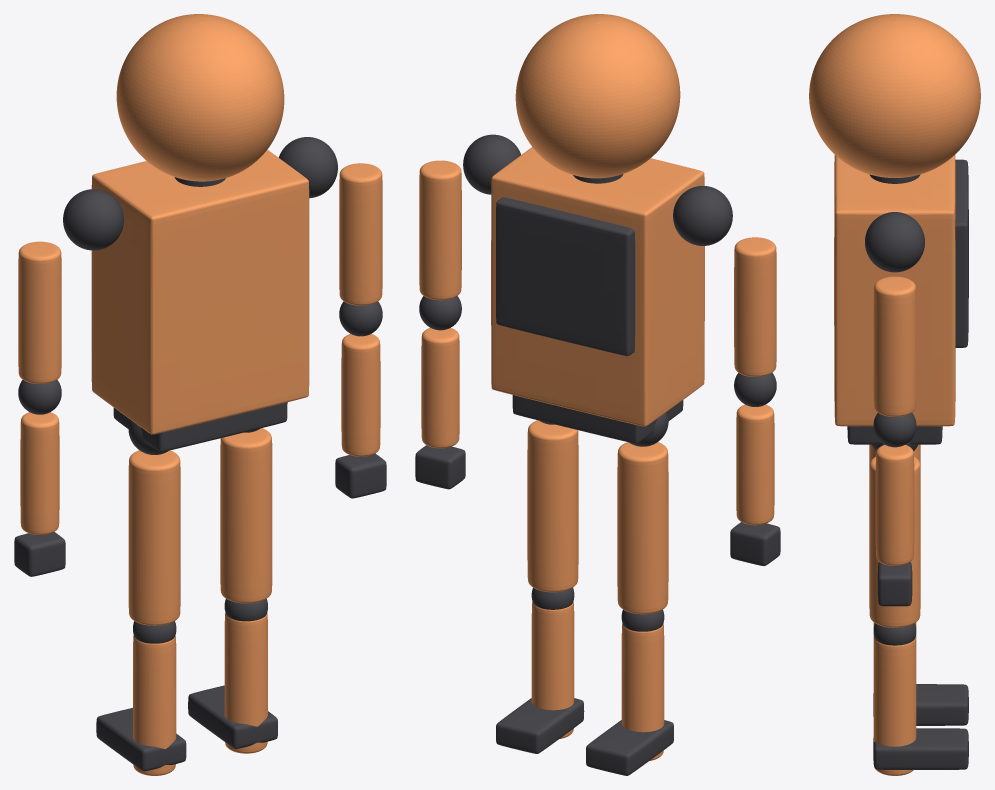
File: Dummy_Mannequin_Orange_Hi.fbx
3 renders of one model, left to right at view 1: azimuth 30°, elevation 25°; view 2: azimuth 150°, elevation 25°; view 3: azimuth 270°, elevation 25°, orthographic.
Visible parts, largest first — view 1: Torso, Head, UpperLeg_L, UpperLeg_R, UpperArm_L, UpperArm_R, LowerLeg_R, LowerLeg_L, LowerArm_L, LowerArm_R, Pelvis, Shoulder_L (+9 smaller); view 2: Torso, Head, ChestPlate, UpperLeg_L, UpperLeg_R, UpperArm_R, UpperArm_L, LowerArm_R, LowerArm_L, LowerLeg_L, LowerLeg_R, Foot_L (+10 smaller); view 3: Head, Torso, UpperArm_R, LowerLeg_R, LowerArm_R, Foot_R, UpperLeg_R, Shoulder_R, ChestPlate, Foot_L, Hand_R, Elbow_R (+2 smaller).
Boxes of the visible parts, x1=… form: Torso: x1=91, y1=149, x2=309, y2=434; Head: x1=116, y1=14, x2=284, y2=181; UpperLeg_L: x1=128, y1=450, x2=180, y2=625; UpperLeg_R: x1=220, y1=428, x2=272, y2=603; UpperArm_L: x1=18, y1=241, x2=61, y2=383; UpperArm_R: x1=339, y1=163, x2=382, y2=305; LowerLeg_R: x1=224, y1=613, x2=267, y2=753; LowerLeg_L: x1=133, y1=635, x2=176, y2=775; LowerArm_L: x1=20, y1=412, x2=59, y2=534; LowerArm_R: x1=341, y1=334, x2=380, y2=456; Pelvis: x1=113, y1=402, x2=287, y2=451; Shoulder_L: x1=63, y1=189, x2=123, y2=250; Torso: x1=491, y1=147, x2=704, y2=426; Head: x1=515, y1=14, x2=680, y2=178; ChestPlate: x1=496, y1=197, x2=635, y2=356; UpperLeg_L: x1=617, y1=442, x2=668, y2=614; UpperLeg_R: x1=527, y1=420, x2=578, y2=592; UpperArm_R: x1=419, y1=160, x2=461, y2=300; UpperArm_L: x1=734, y1=237, x2=776, y2=376; LowerArm_R: x1=421, y1=327, x2=459, y2=448; LowerArm_L: x1=736, y1=404, x2=774, y2=525; LowerLeg_L: x1=621, y1=623, x2=664, y2=760; LowerLeg_R: x1=531, y1=601, x2=574, y2=738; Foot_L: x1=586, y1=720, x2=673, y2=775; Head: x1=809, y1=14, x2=980, y2=177; Torso: x1=834, y1=155, x2=955, y2=426; UpperArm_R: x1=873, y1=276, x2=916, y2=416; LowerLeg_R: x1=873, y1=637, x2=916, y2=775; LowerArm_R: x1=875, y1=444, x2=914, y2=565; Foot_R: x1=873, y1=728, x2=968, y2=769; UpperLeg_R: x1=869, y1=456, x2=920, y2=627; Shoulder_R: x1=865, y1=212, x2=924, y2=272; ChestPlate: x1=955, y1=159, x2=968, y2=347; Foot_L: x1=873, y1=684, x2=968, y2=725; Hand_R: x1=877, y1=562, x2=912, y2=606; Elbow_R: x1=873, y1=413, x2=916, y2=447.
Size of the model in its own units: 0.9397 by 1.84 by 0.3949.
